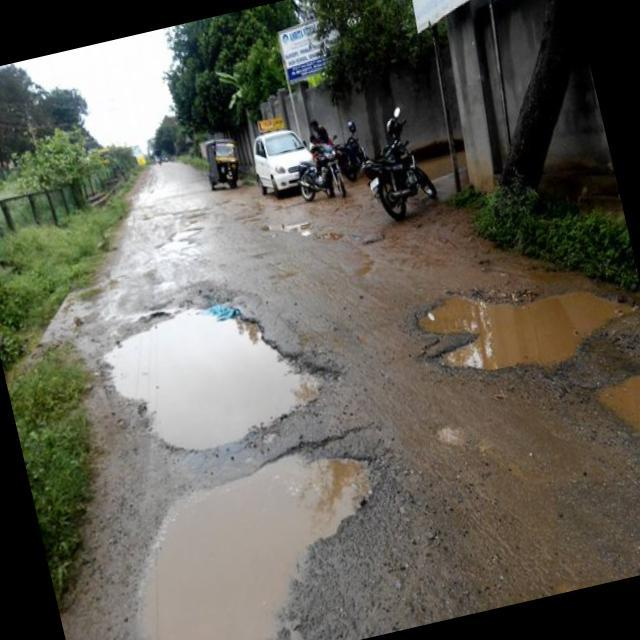Pothole: (146, 434, 408, 640), (100, 272, 349, 460), (404, 248, 634, 386), (585, 361, 640, 469)
